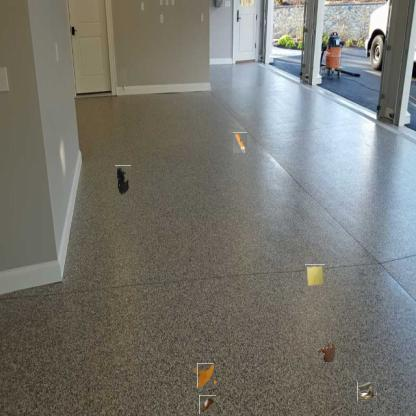dirty: (115, 165, 131, 196), (305, 264, 325, 287), (357, 382, 377, 401), (199, 395, 216, 414), (233, 132, 247, 153)
liquid: (316, 340, 336, 364), (195, 365, 216, 386)
